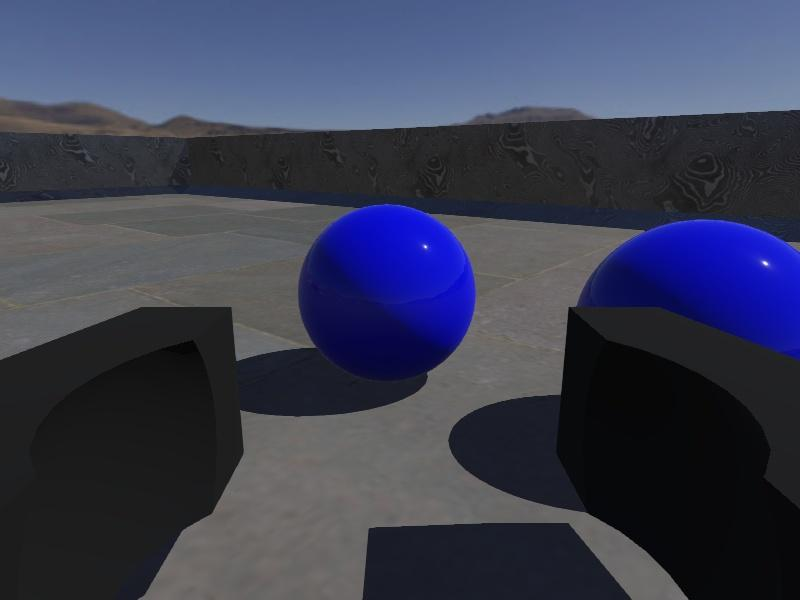blue ball: (297, 203, 477, 382)
